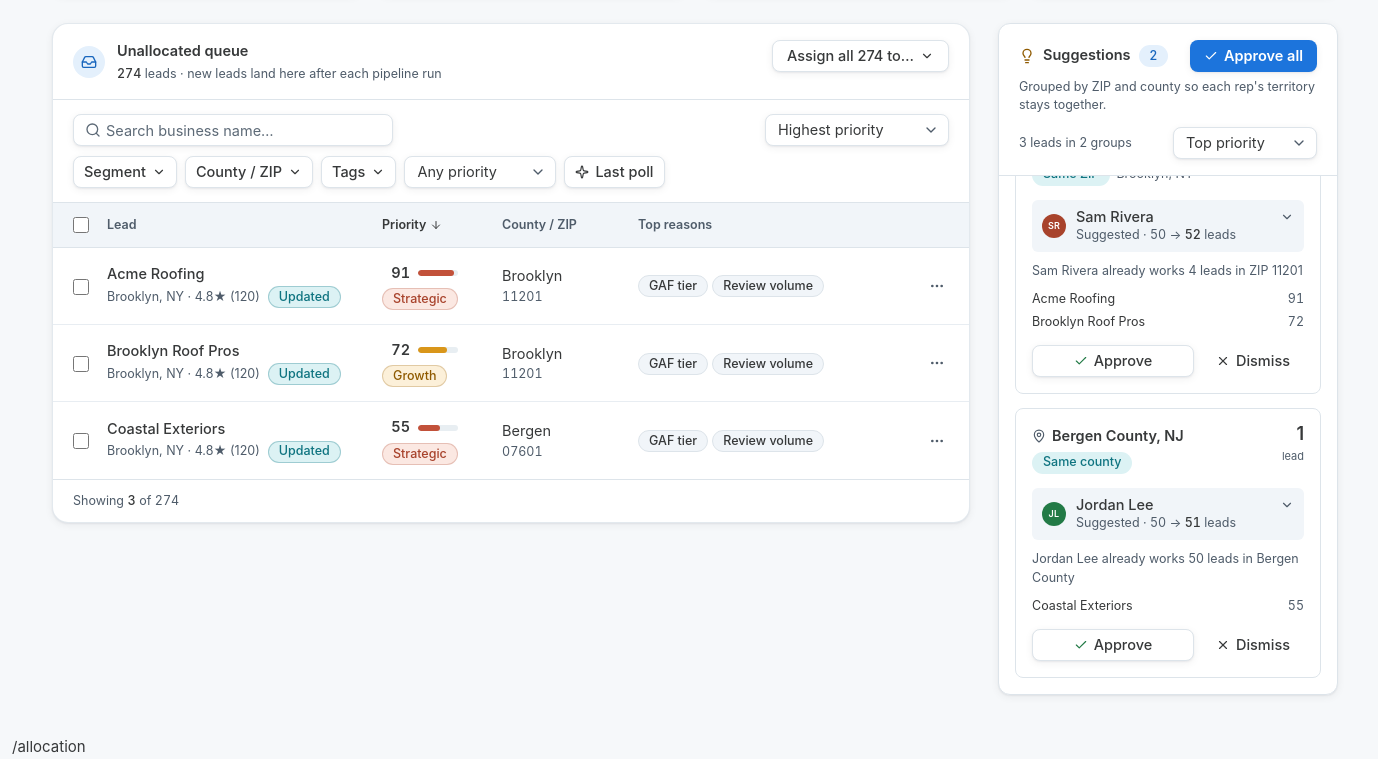
Test: AllocationPage › approves a suggestion as one allocation, and remembers dismissals per user
This screenshot has width=1378, height=759.
(page scrolled)
Expected: the text "Jordan Lee already works 50 leads in Bergen County" is shown, [1032,550,1304,587]
Click the button with aria-label "Dismiss suggestion for Bergen County" at [1253, 645], box [1202,629,1304,661]
(page scrolled)
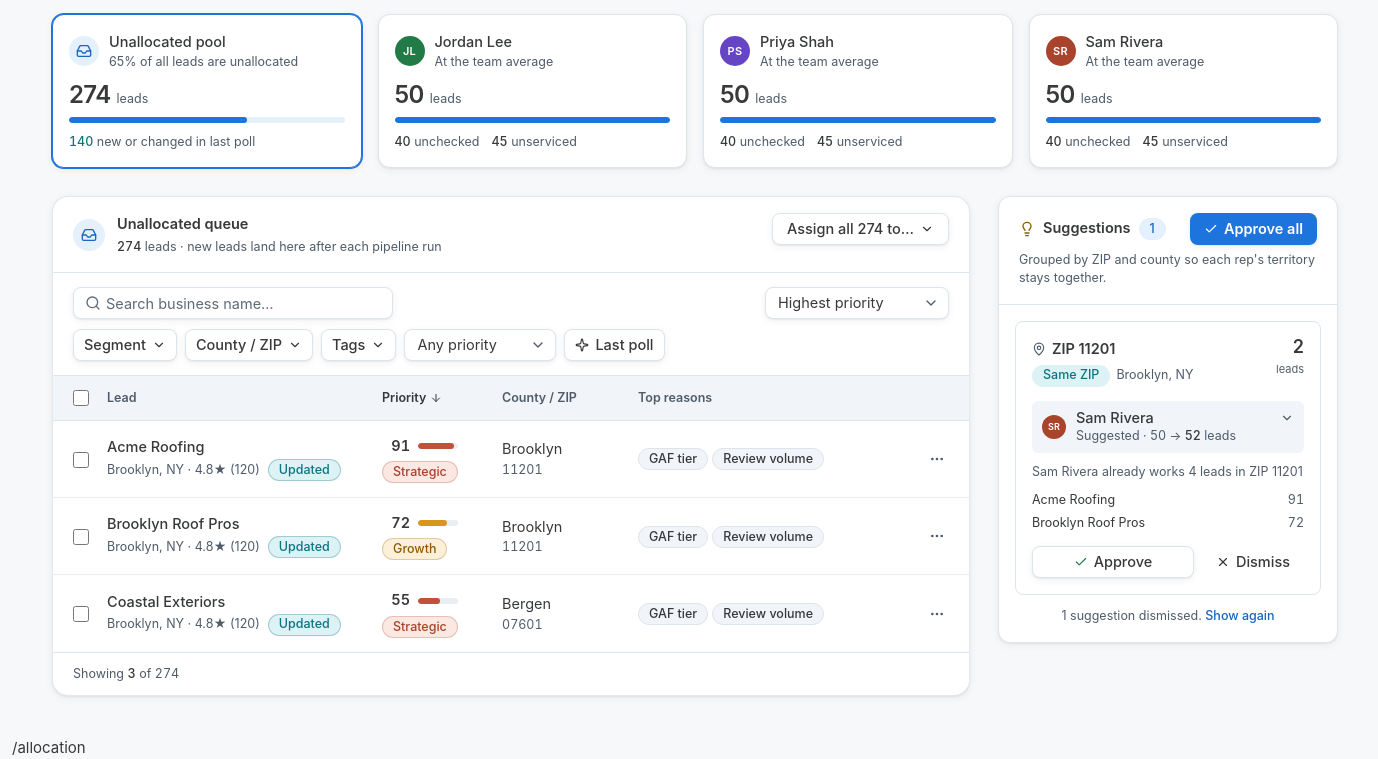
Expected: the text "Bergen County, NJ" is gone
Click the button with aria-label "Approve: assign ZIP 11201 (2 leads) to Sam Rivera" at [1113, 562], box [1032,546,1194,578]
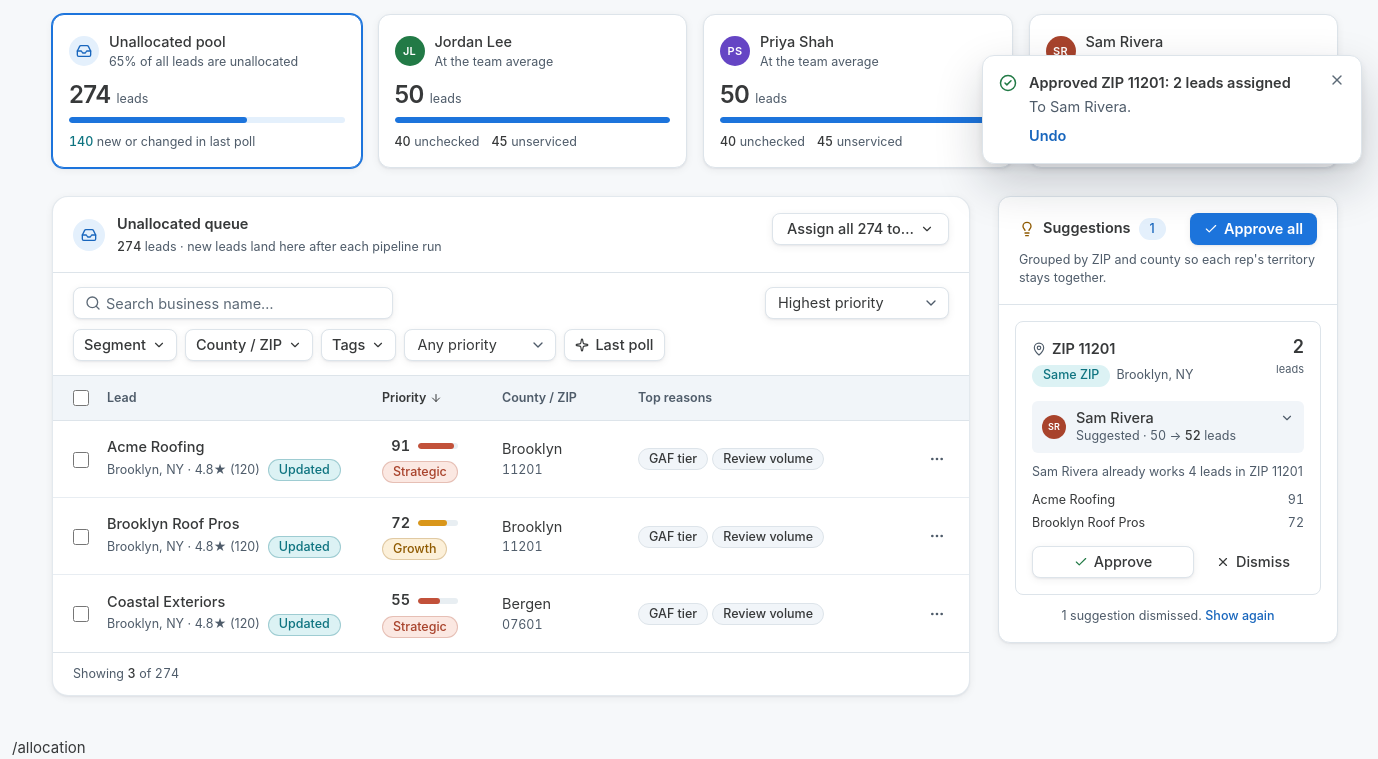
Expected: the text "Approved ZIP 11201: 2 leads assigned" is shown, [1029,72,1317,94]
Expected: the button "Undo" is shown, [1029,125,1066,147]
